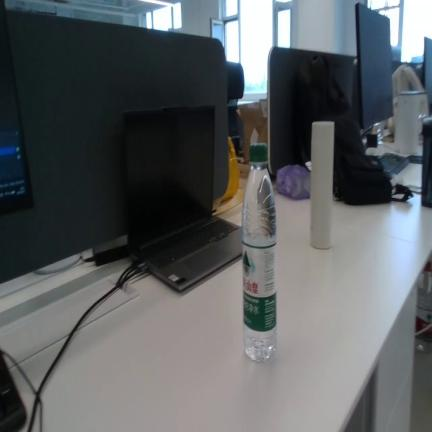bottle: (242, 143, 277, 361)
